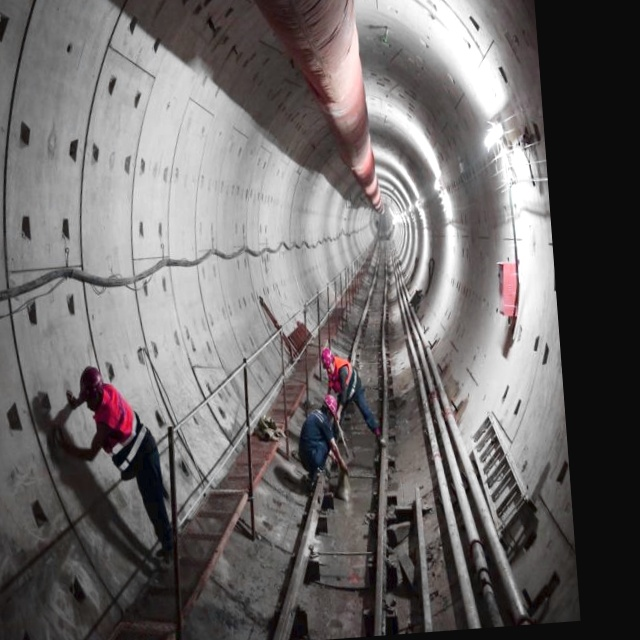Con_Casco: (321, 348, 335, 376)
Con_Chaleco: (92, 384, 149, 469), (334, 355, 361, 397)
